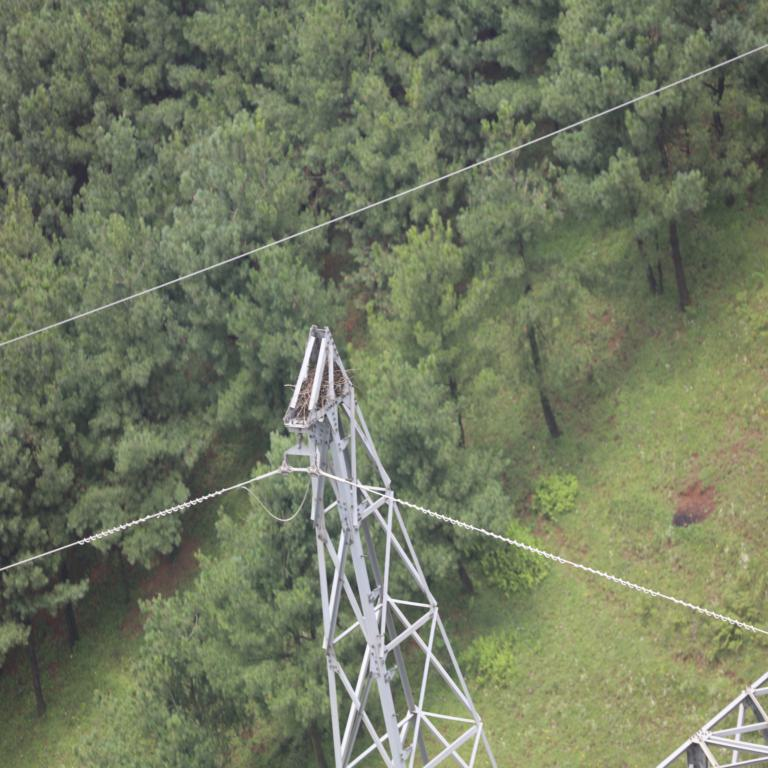nest: (293, 365, 353, 414)
